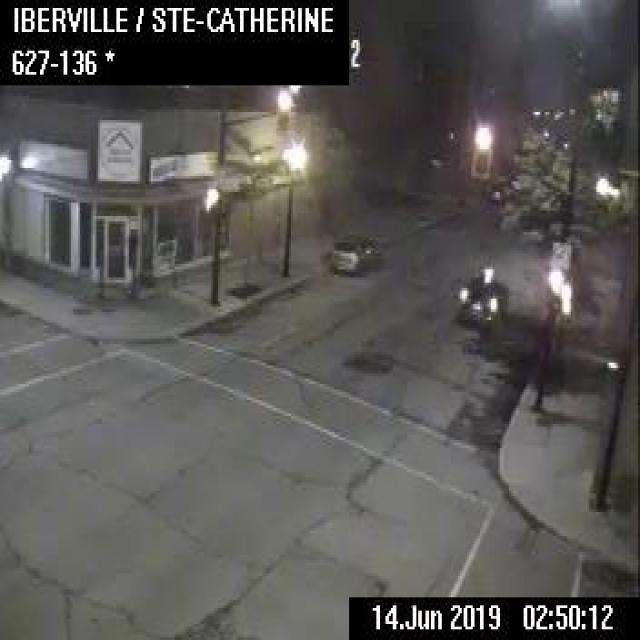vehicle: (449, 264, 509, 322), (326, 233, 376, 275)
